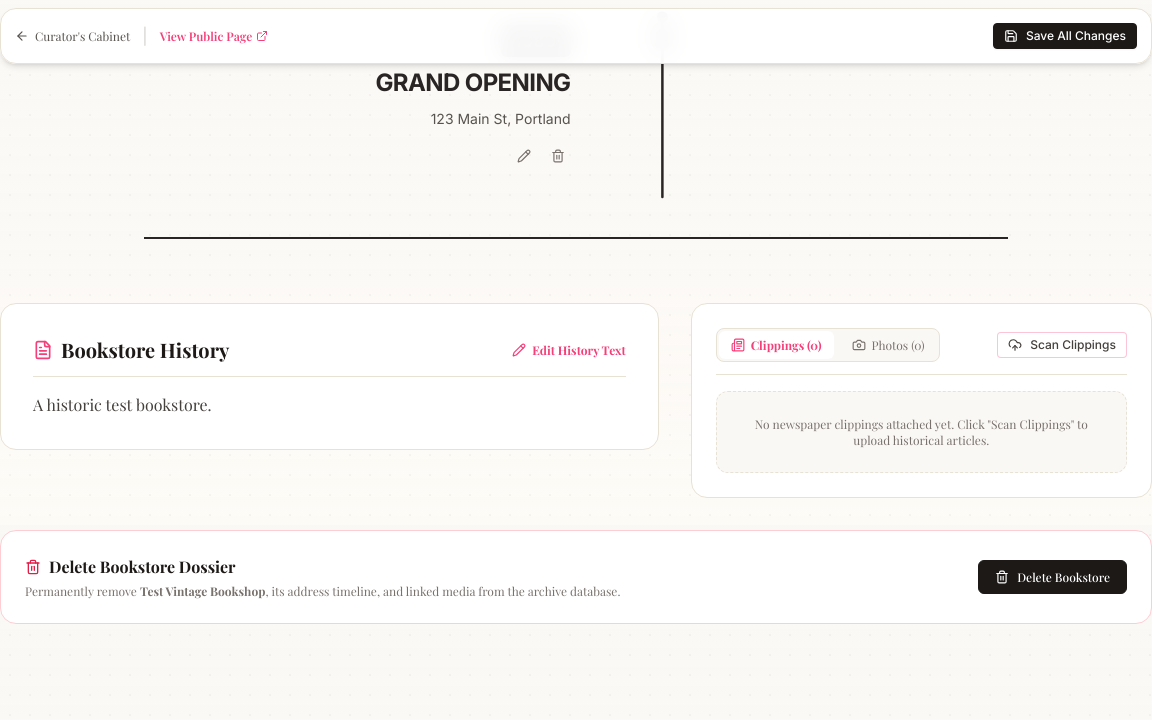
Test: BookstoreVisualEditor Deletion Flow › renders delete button and opens confirmation popup when clicked
This screenshot has width=1152, height=720.
(page scrolled)
# Click the delete button
What coordinates should you click on to do the following:
click the button "Delete Bookstore"
I would click on:
 (1053, 576)
Its box is [978,560,1127,594].
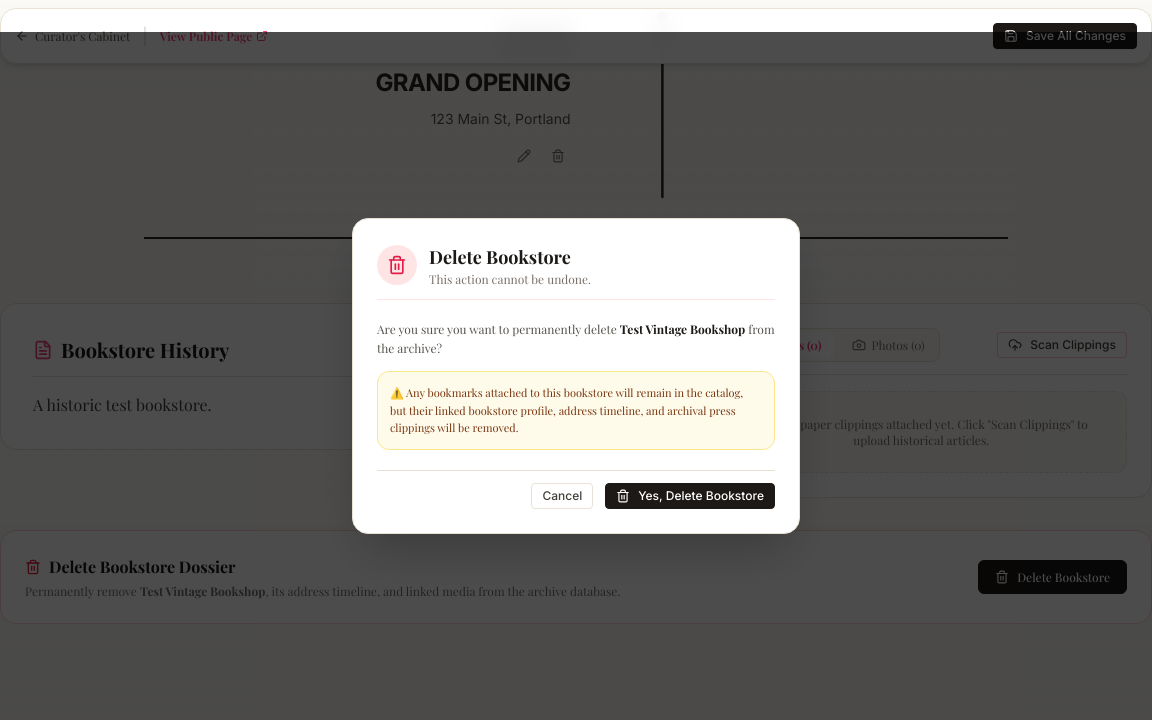
Result: the text "This action cannot be undone." is shown at [429,271,591,287]
Result: the button "Yes, Delete Bookstore" is shown at [605,483,775,509]
Result: the button "Cancel" is shown
# Click Cancel and verify modal closes
What coordinates should you click on to do the following:
click the button "Cancel"
I would click on:
 (562, 496)
Its box is [531,483,593,509].
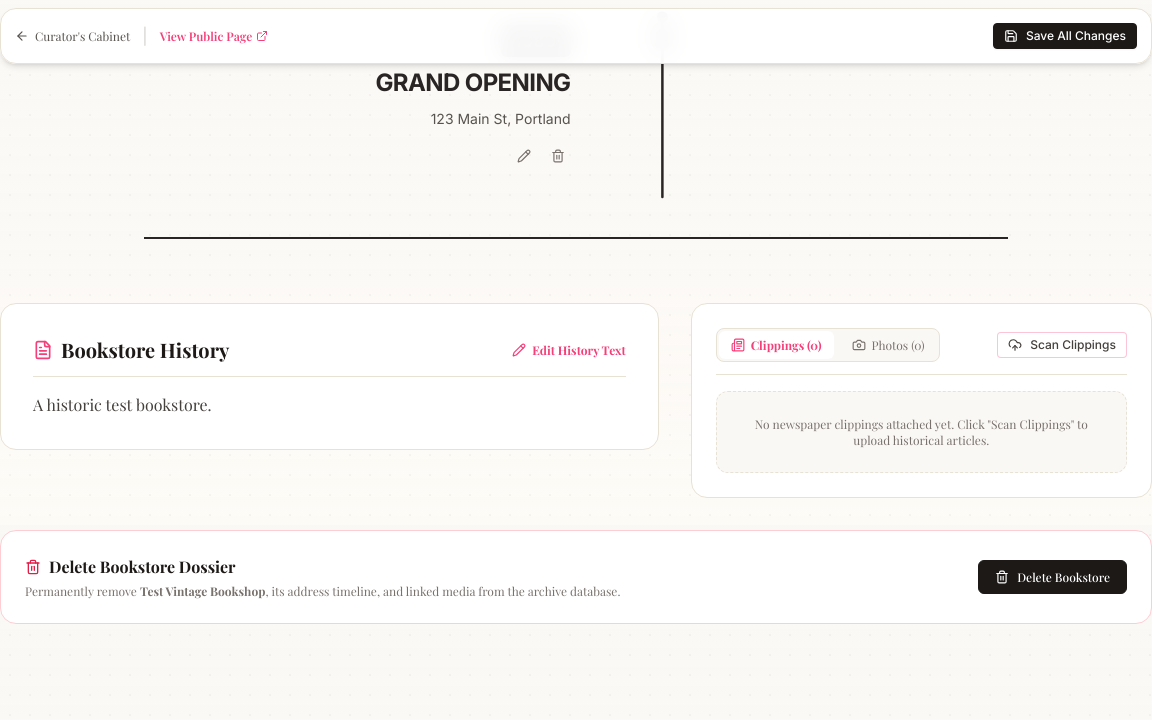
Result: the text "This action cannot be undone" is gone
